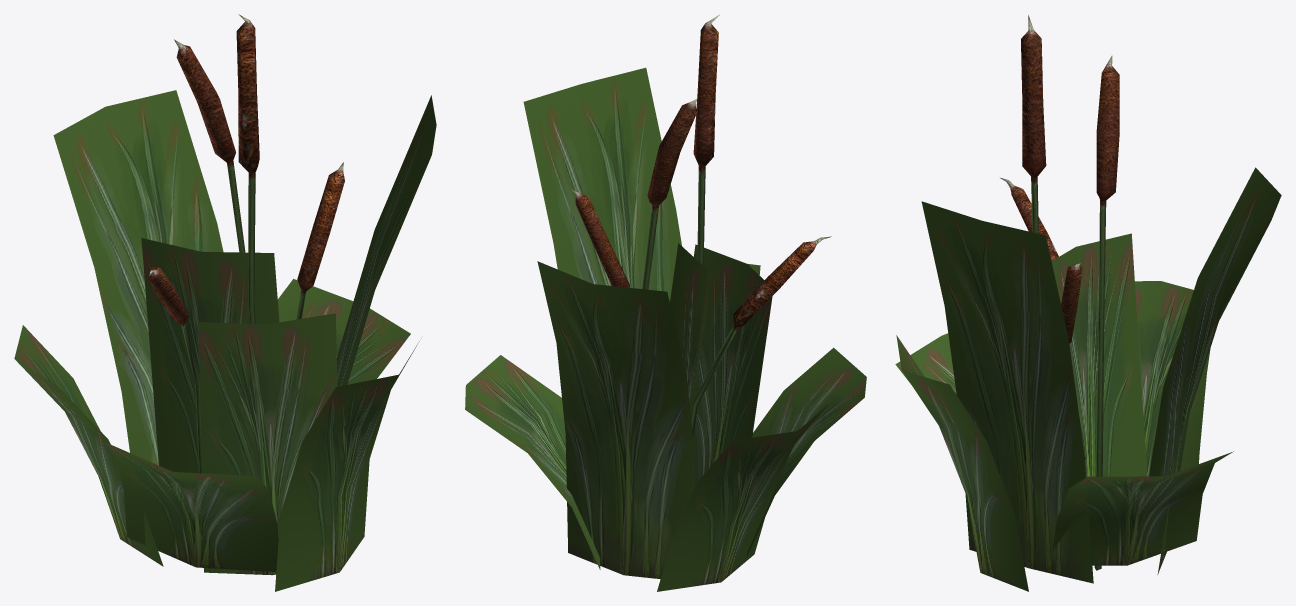
File: Typha orientalis.FBX
3 views of the same model, side by side, from view 1: azimuth 30°, elevation 25°; view 2: azimuth 150°, elevation 25°; view 3: azimuth 270°, elevation 25° (orthographic). The views are drawn at different scales.
Visible parts, largest first — view 1: Typha orientalis; view 2: Typha orientalis; view 3: Typha orientalis.
Boxes of the visible parts, x1,y1,x2,y2 form: Typha orientalis: (14, 14, 436, 591); Typha orientalis: (465, 14, 866, 591); Typha orientalis: (895, 15, 1281, 591).
Size of the model in its own units: 52.52 by 78.93 by 52.3.
